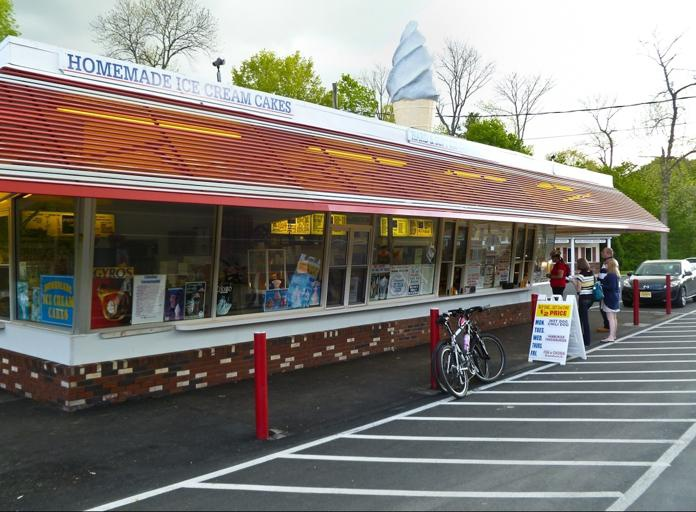non-vehicle: (438, 305, 507, 401), (431, 304, 491, 396)
